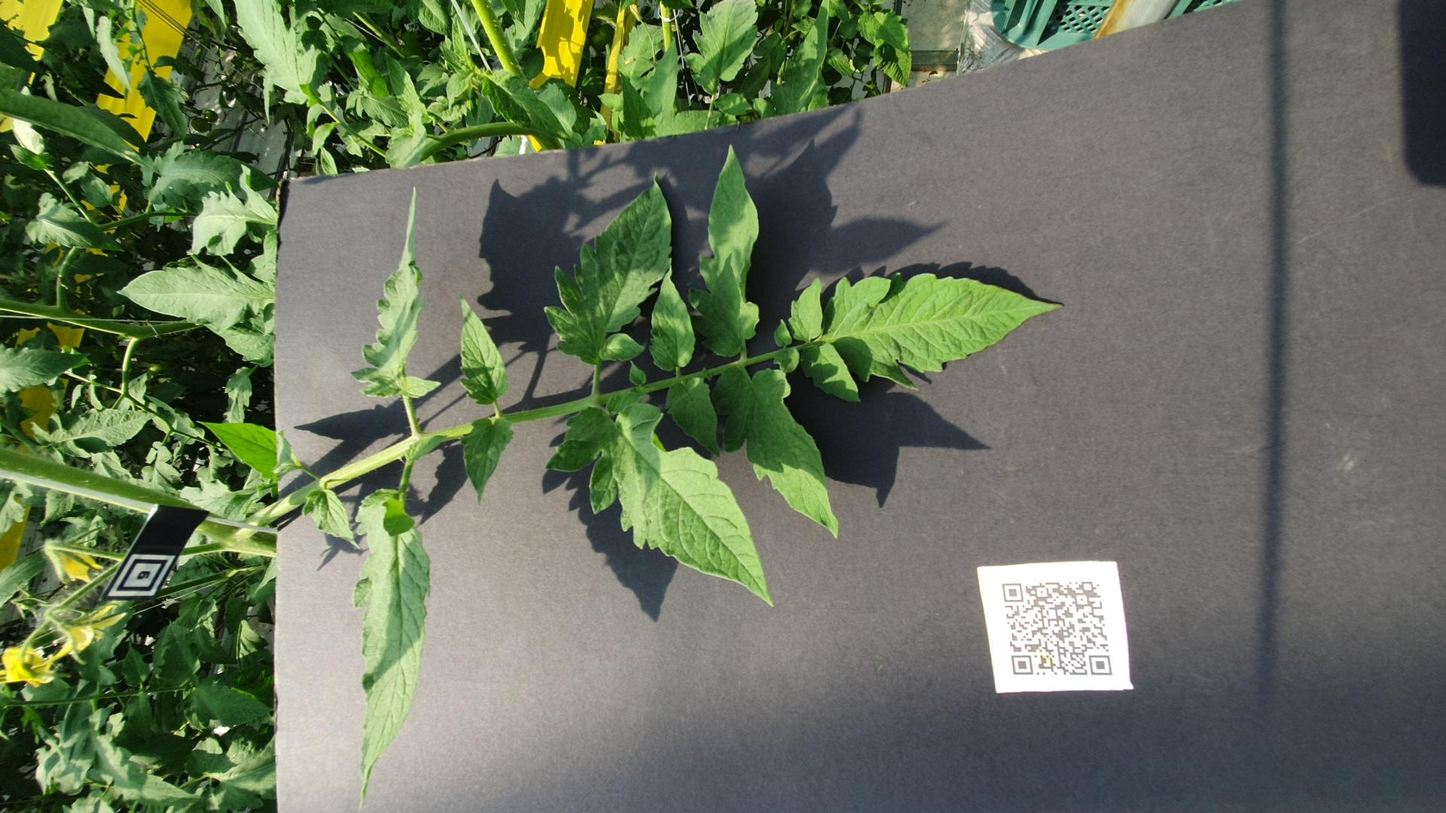Healthy: (364, 306, 759, 435), (731, 435, 961, 598), (796, 305, 1142, 378), (29, 198, 580, 243), (486, 400, 796, 472), (737, 196, 1117, 249), (809, 386, 1191, 428), (854, 65, 994, 155), (1257, 131, 1446, 185), (1071, 79, 1196, 159), (1231, 421, 1446, 467), (990, 105, 1154, 156), (1192, 263, 1329, 323), (1276, 383, 1446, 427), (621, 17, 726, 88), (996, 14, 1106, 71), (591, 110, 695, 169), (721, 258, 925, 287), (787, 363, 976, 390), (738, 0, 837, 51), (148, 107, 250, 155), (549, 260, 706, 290), (632, 372, 778, 404), (1194, 76, 1324, 107), (466, 169, 576, 203), (1231, 216, 1355, 241), (1194, 347, 1319, 369), (1342, 490, 1427, 512)
